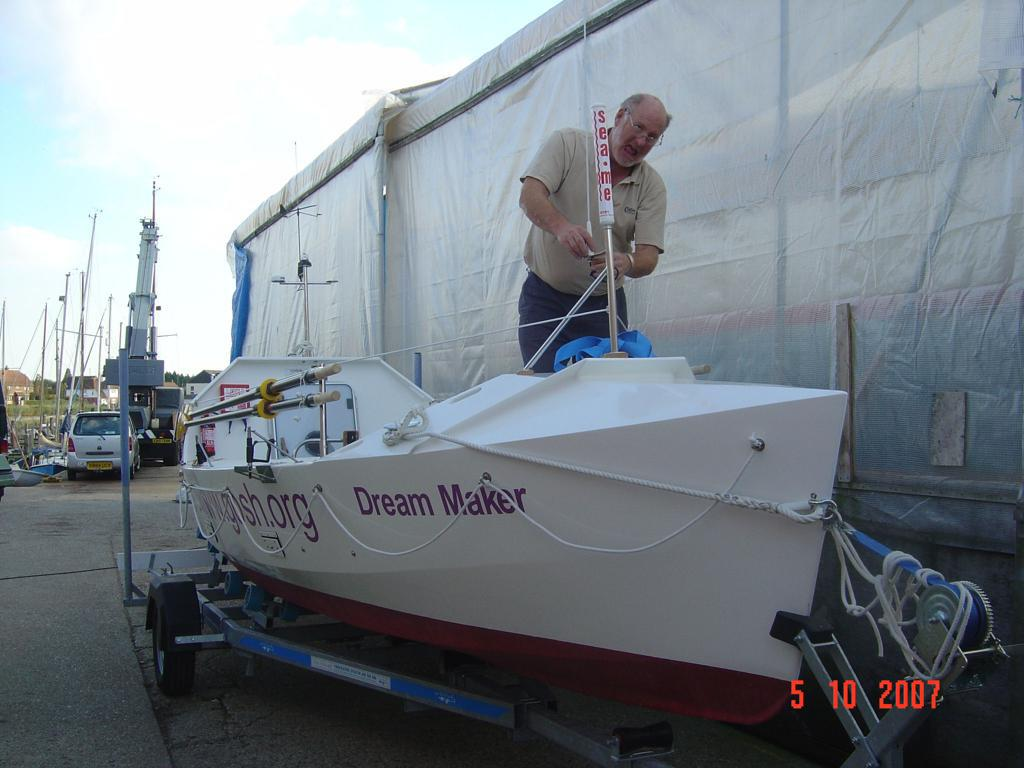face: (615, 104, 669, 165)
